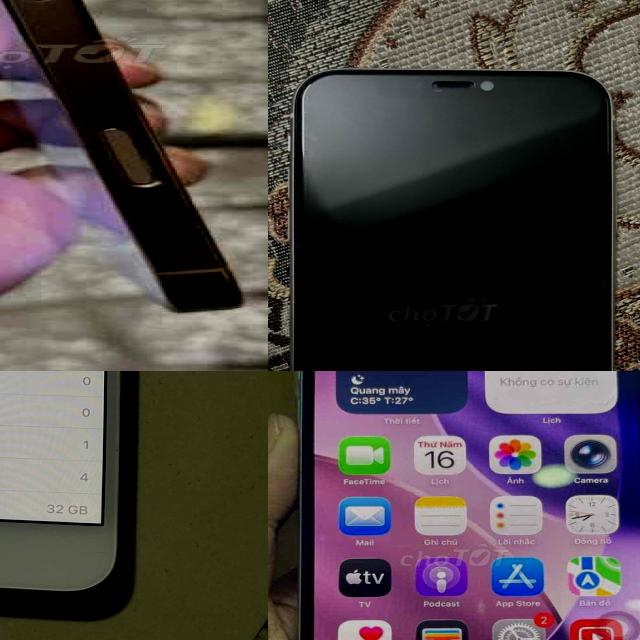gen_11: (286, 61, 620, 371)
gen_15: (277, 371, 640, 640)
gen_16: (0, 0, 268, 325)
gen_6: (0, 371, 148, 613)
